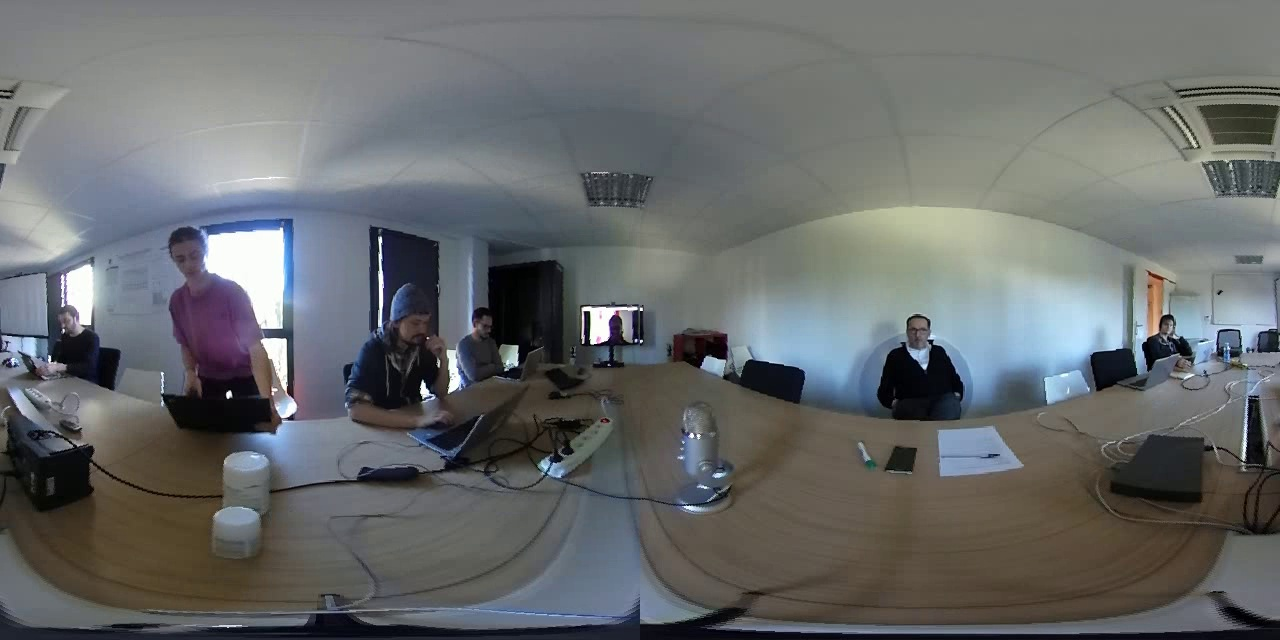person: (146, 215, 288, 397), (334, 271, 447, 421), (877, 306, 971, 425), (40, 294, 113, 388), (458, 298, 505, 386), (1144, 304, 1195, 367), (586, 309, 644, 346)
